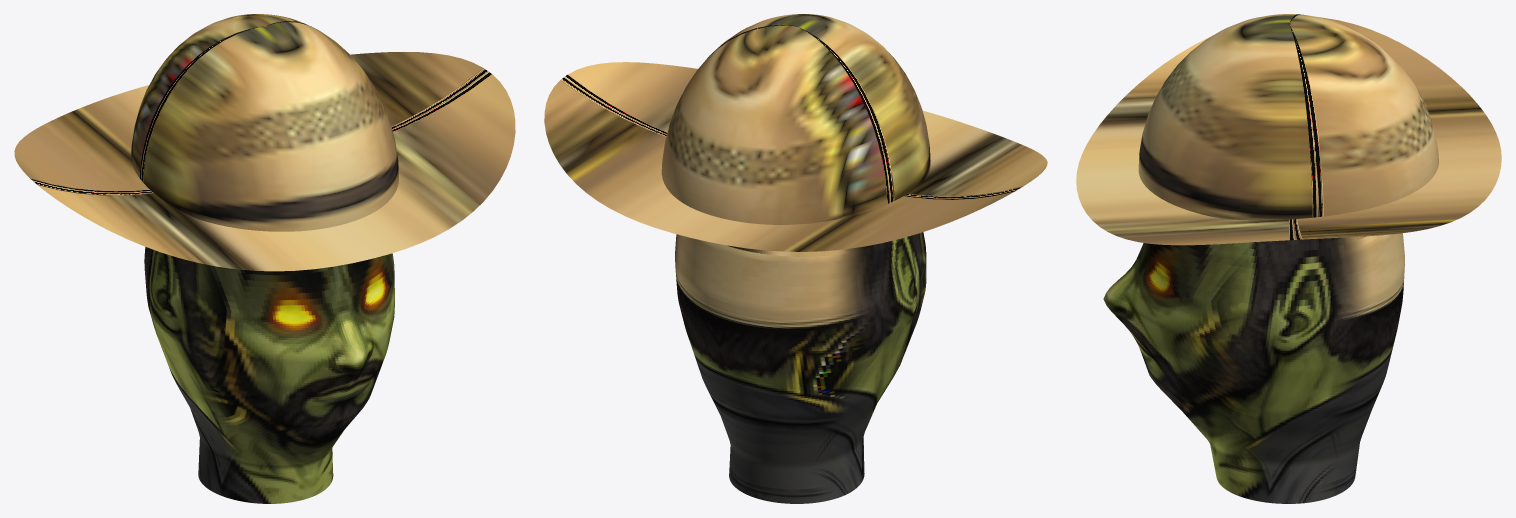
File: head.glb
3 renders of one model, left to right at view 1: azimuth 30°, elevation 25°; view 2: azimuth 150°, elevation 25°; view 3: azimuth 270°, elevation 25°, orthographic.
Visible parts, largest first — view 1: alex source head and dimensional accessories; view 2: alex source head and dimensional accessories; view 3: alex source head and dimensional accessories.
Boxes of the visible parts, left/top/right/bottom form: alex source head and dimensional accessories: left=14, top=14, right=515, bottom=503; alex source head and dimensional accessories: left=544, top=14, right=1047, bottom=503; alex source head and dimensional accessories: left=1076, top=14, right=1501, bottom=503.
Bounding box in the file's own units: 0.51 × 0.48 × 0.41.
Materials: 2 (2 with a texture image).
